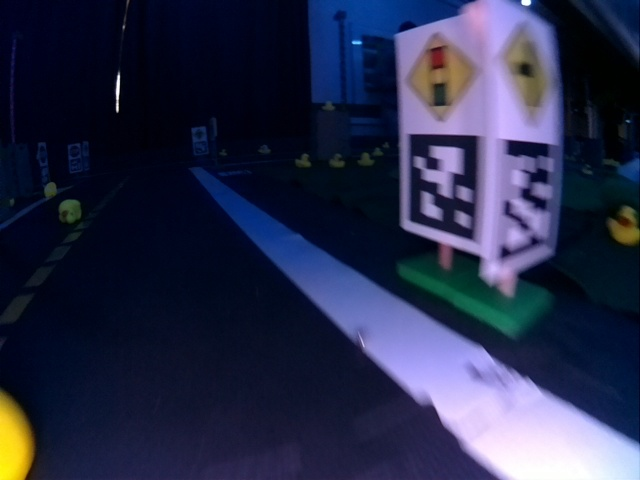Duckie: (610, 206, 638, 245), (59, 200, 82, 222), (295, 153, 311, 167), (329, 153, 345, 165), (359, 154, 375, 164), (45, 182, 58, 193)
Intersection sign: (490, 17, 561, 133)
QR code: (405, 136, 481, 242), (492, 142, 556, 264)
Signal sign: (404, 30, 480, 127)
